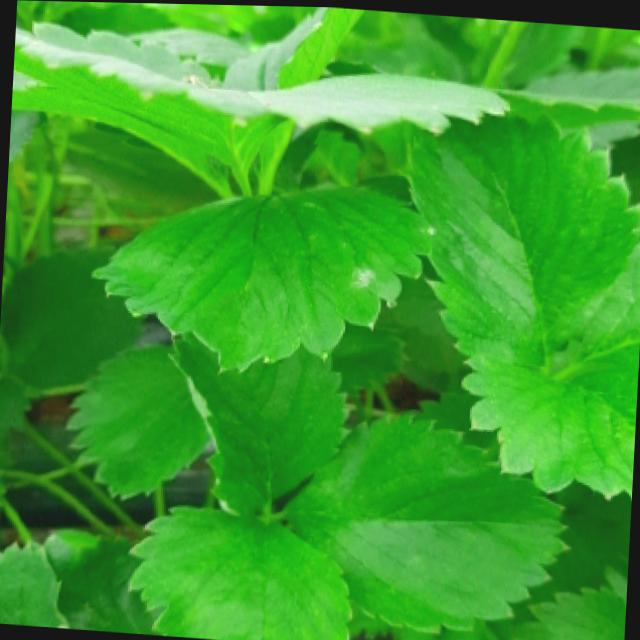Powdery Mildew Leaf: (88, 181, 429, 377)
